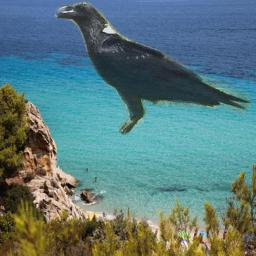Crow: (52, 2, 253, 138)
